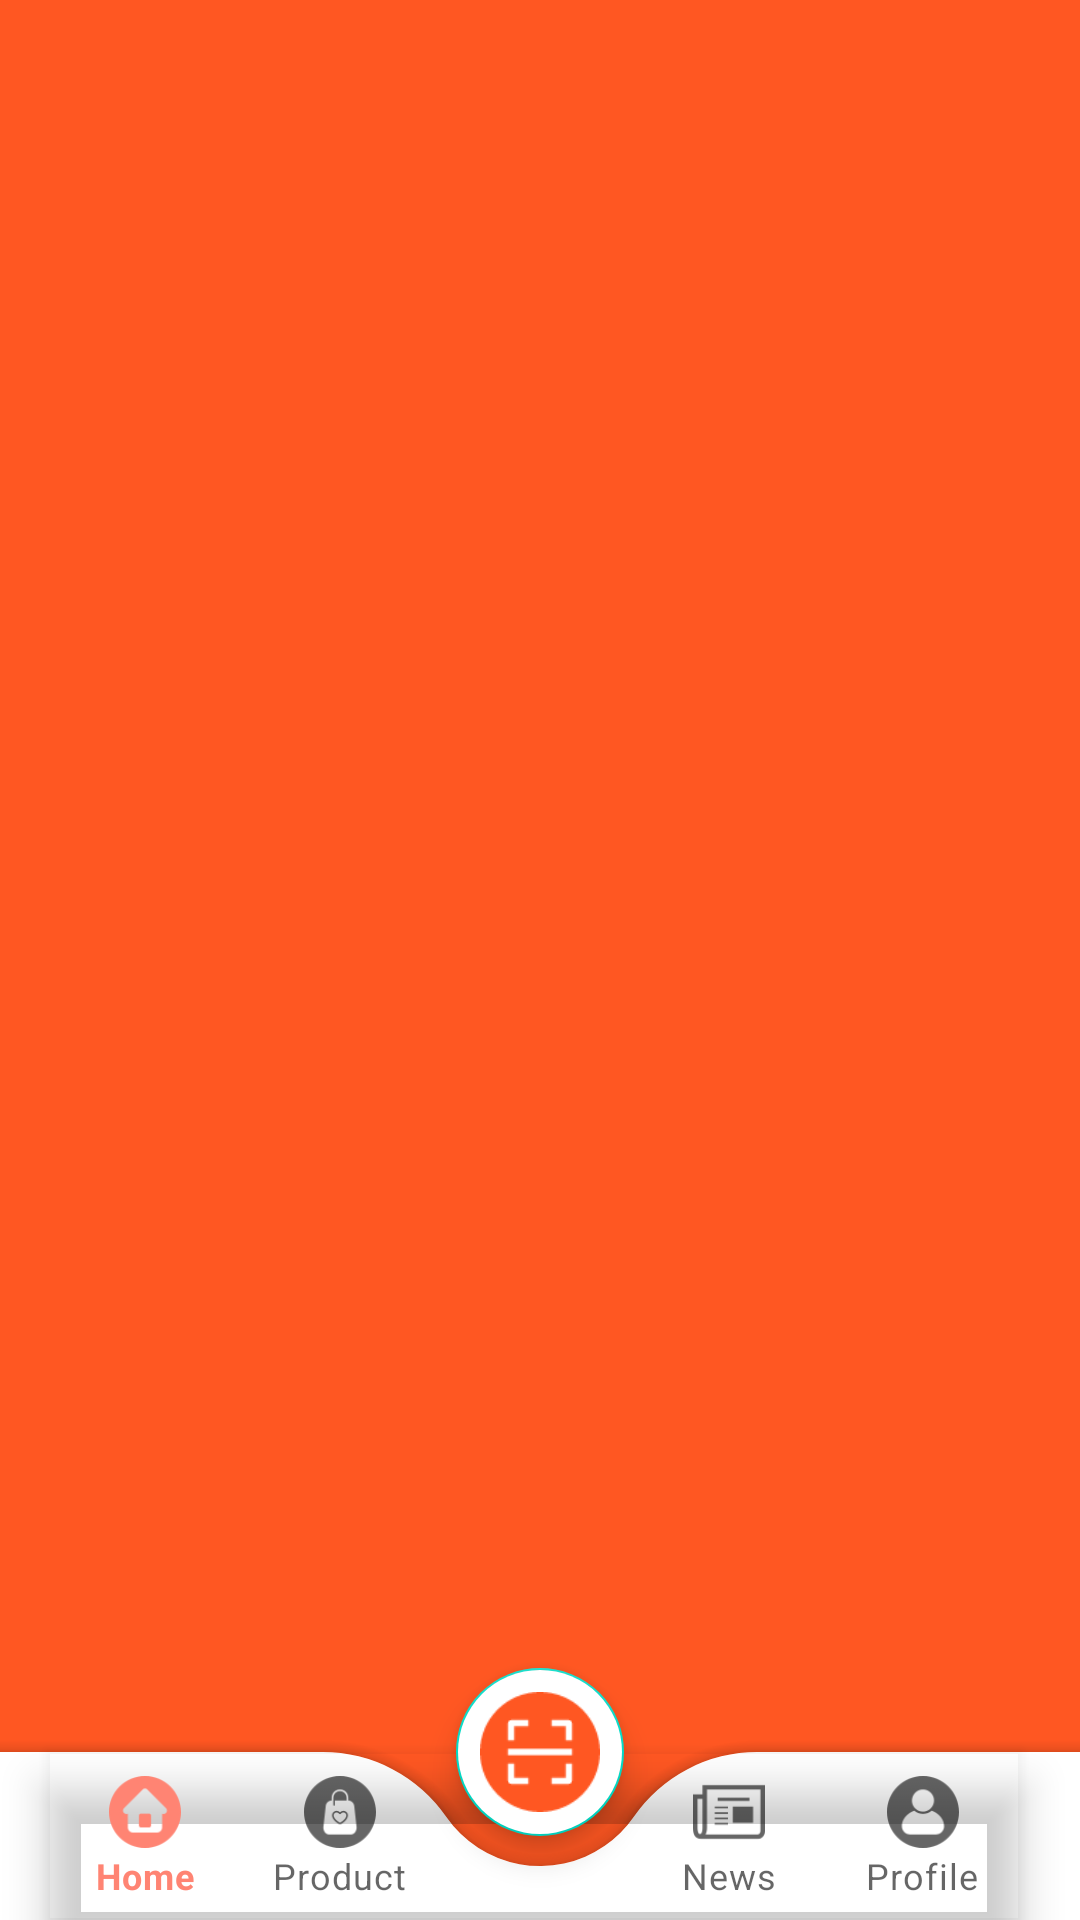

Icons on this 1080 x 1920 Android screen, each with the point to tap as (x,y):
scan: (540,1752)
